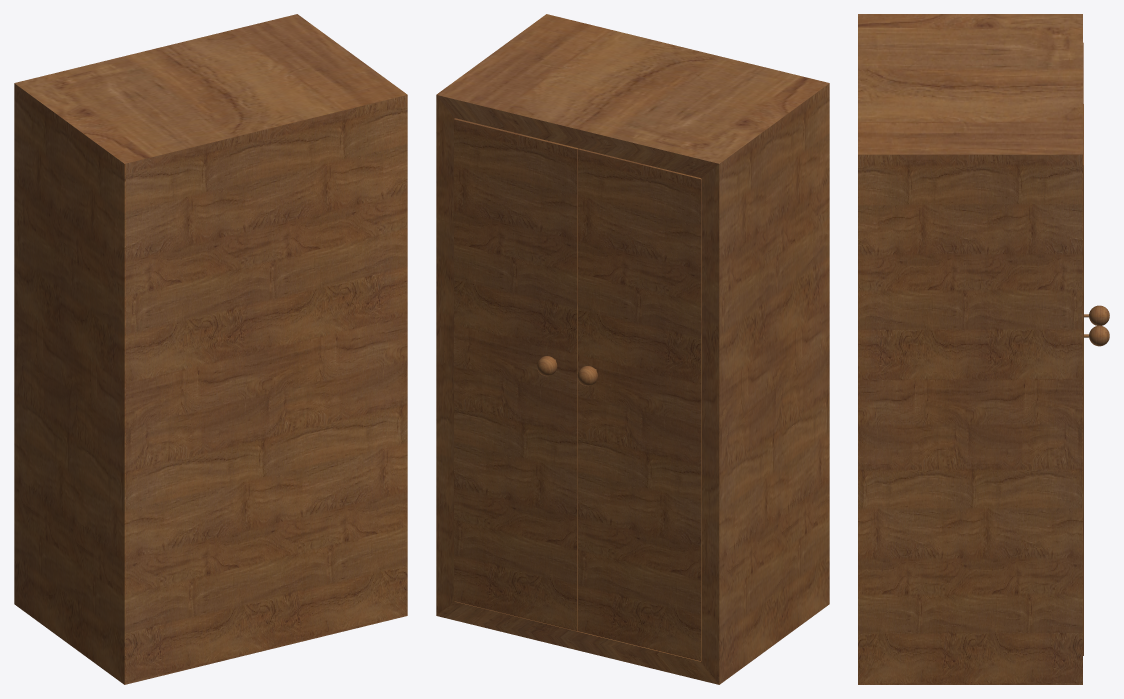
Rendered from Armário_Com_Porta_Madeira_Escura.fbx.
3 views of the same model, side by side, from view 1: azimuth 30°, elevation 25°; view 2: azimuth 150°, elevation 25°; view 3: azimuth 270°, elevation 25° (orthographic).
Parts seen in each view (by area): view 1: polySurface66; view 2: polySurface66, polySurface71, pCube19; view 3: polySurface66, polySurface71, pCube19.
Boxes of the visible parts, bbox=[...] form: polySurface66: bbox=[14, 14, 407, 684]; polySurface66: bbox=[436, 14, 829, 684]; polySurface71: bbox=[454, 118, 578, 630]; pCube19: bbox=[577, 148, 701, 661]; polySurface66: bbox=[858, 14, 1082, 684]; polySurface71: bbox=[1083, 104, 1109, 655]; pCube19: bbox=[1083, 42, 1109, 325].
Size of the model in its own units: 2 by 3.52 by 1.51.
